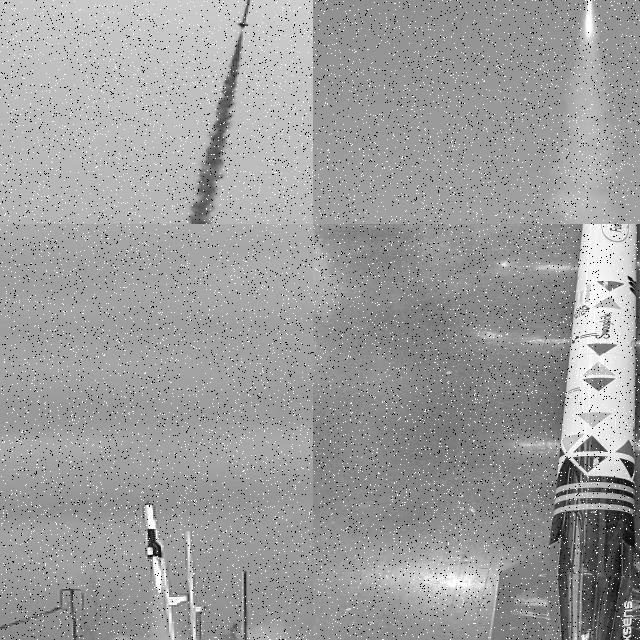Rocket: (488, 224, 640, 640), (140, 499, 164, 558), (236, 0, 257, 28)
